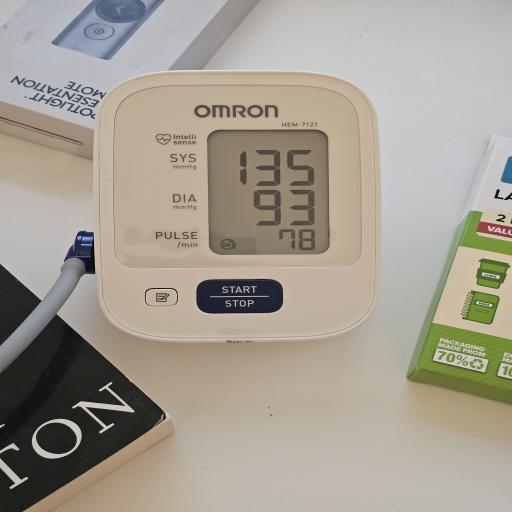blood pressure monitor: (94, 69, 382, 344)
